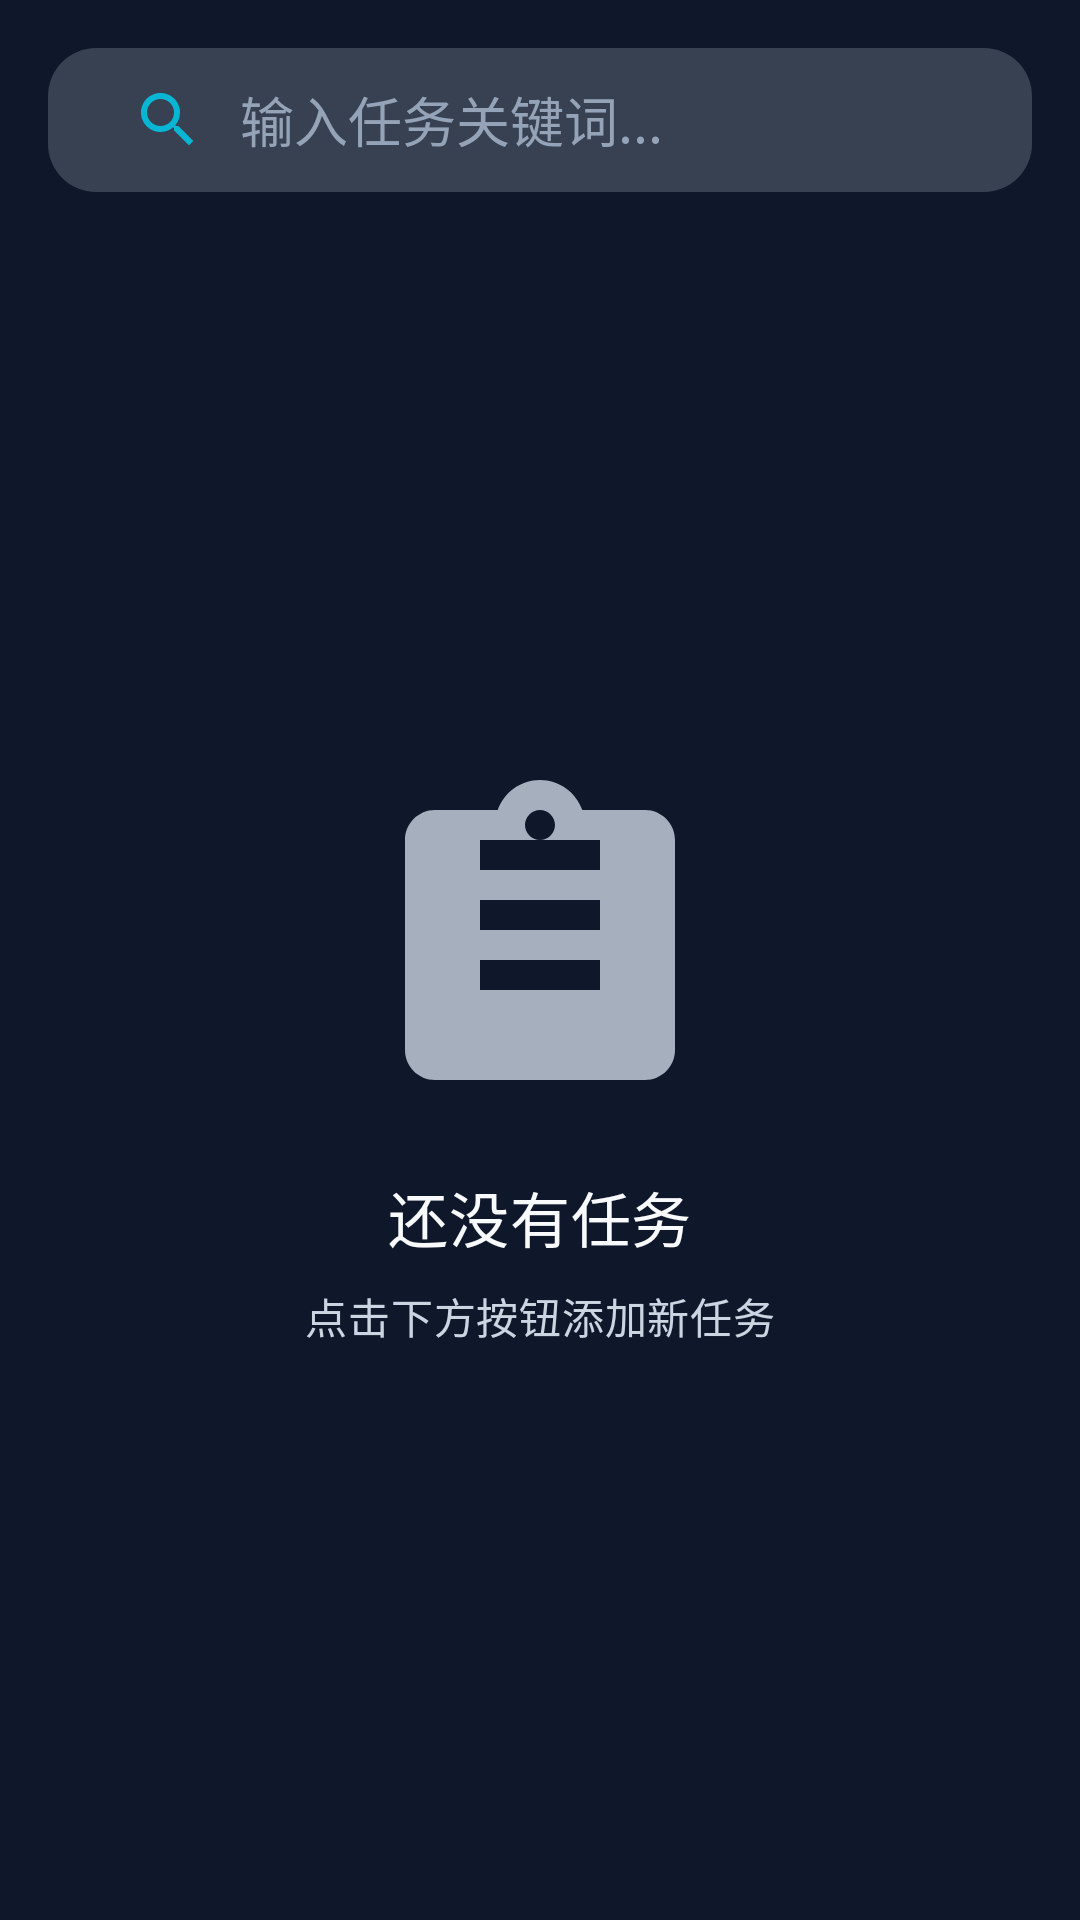

Where to tap for icons on this 1080 × 1920 app screen, as (x,y):
empty tasks: (540,930)
